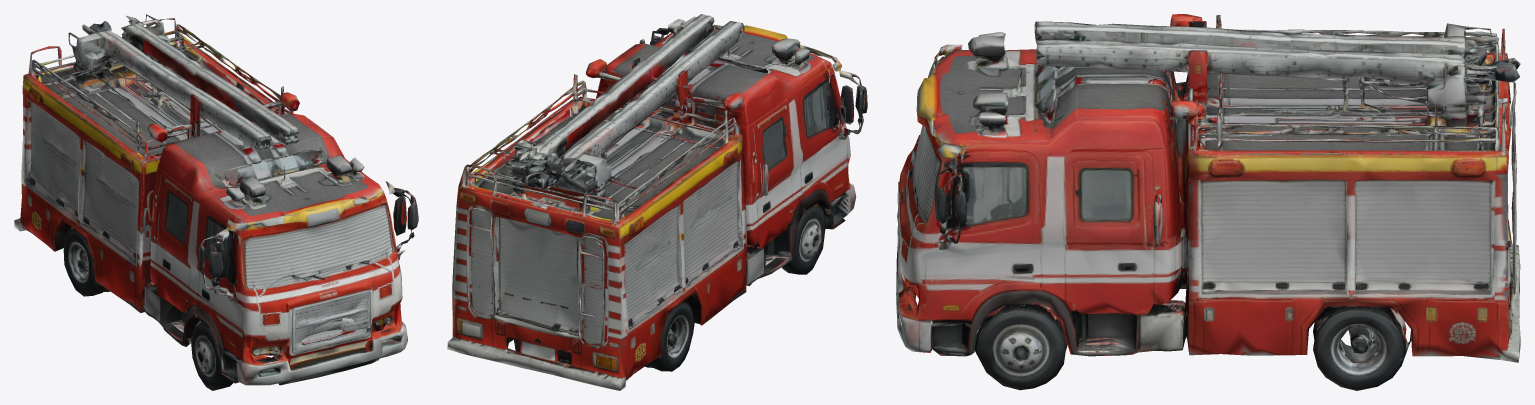
Rendered from fire_truck.glb.
3 renders of one model, left to right at view 1: azimuth 30°, elevation 25°; view 2: azimuth 150°, elevation 25°; view 3: azimuth 270°, elevation 25°, orthographic. The views are drawn at different scales.
Visible parts, largest first — view 1: texture_mapping; view 2: texture_mapping; view 3: texture_mapping.
Boxes of the visible parts, bbox=[...] form: texture_mapping: bbox=[14, 14, 418, 390]; texture_mapping: bbox=[447, 14, 867, 390]; texture_mapping: bbox=[896, 14, 1520, 390].
Size of the model in its own units: 0.5263 by 0.5463 by 1.
Materials: 1 (1 with a texture image).
